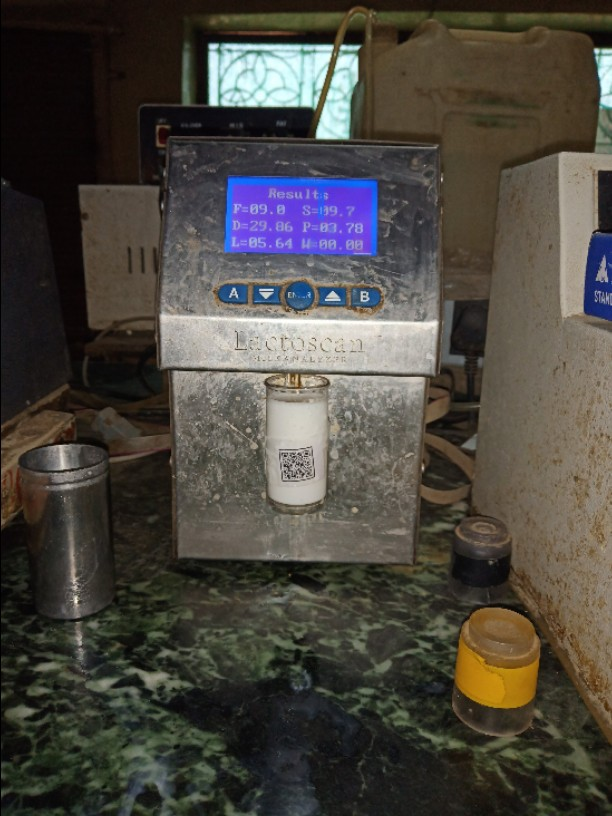lcd: (215, 171, 388, 264)
qr: (267, 441, 330, 487)
